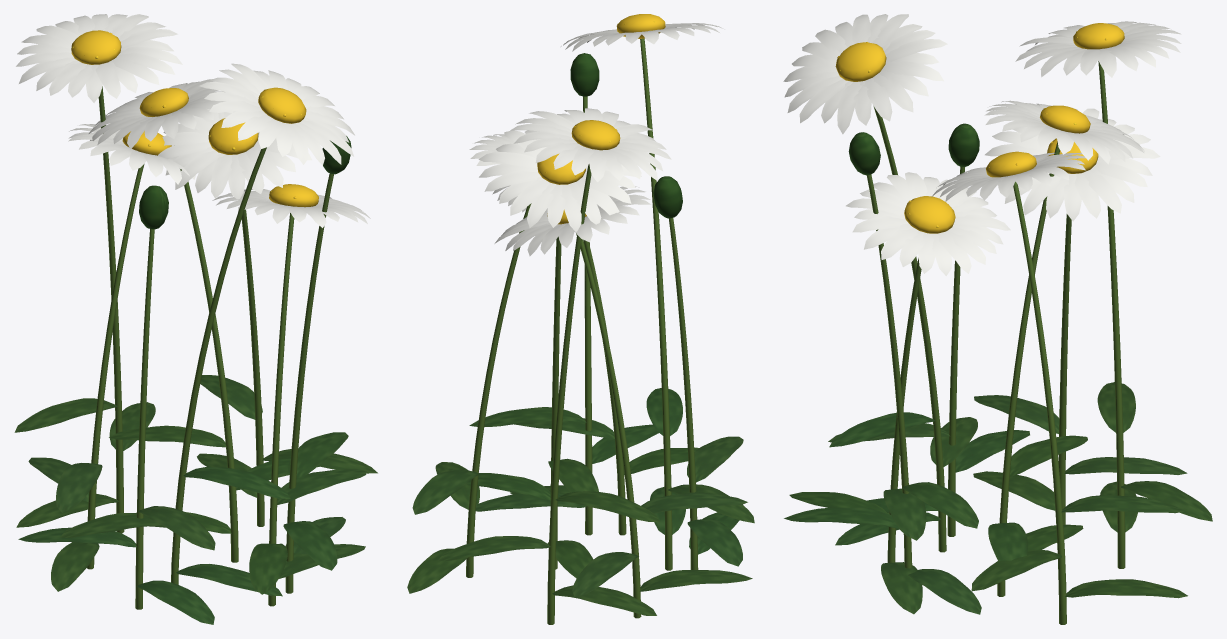
File: n-daisy.glb
3 renders of one model, left to right at view 1: azimuth 30°, elevation 25°; view 2: azimuth 150°, elevation 25°; view 3: azimuth 270°, elevation 25°, orthographic. The views are drawn at different scales.
Parts seen in each view (by area): view 1: Flowers, Foliage, Stems; view 2: Foliage, Flowers, Stems; view 3: Flowers, Foliage, Stems.
Part boxes in pixels (x1,y1,x2,y2): Flowers: [16, 14, 370, 227]; Foliage: [14, 136, 377, 624]; Stems: [87, 86, 333, 609]; Foliage: [407, 53, 754, 615]; Flowers: [469, 14, 724, 256]; Stems: [466, 38, 698, 624]; Flowers: [783, 14, 1181, 275]; Foliage: [784, 123, 1212, 614]; Stems: [866, 61, 1125, 624].
Size of the model in its own units: 0.2099 by 0.32 by 0.2296.
3 materials, 1 textured.
